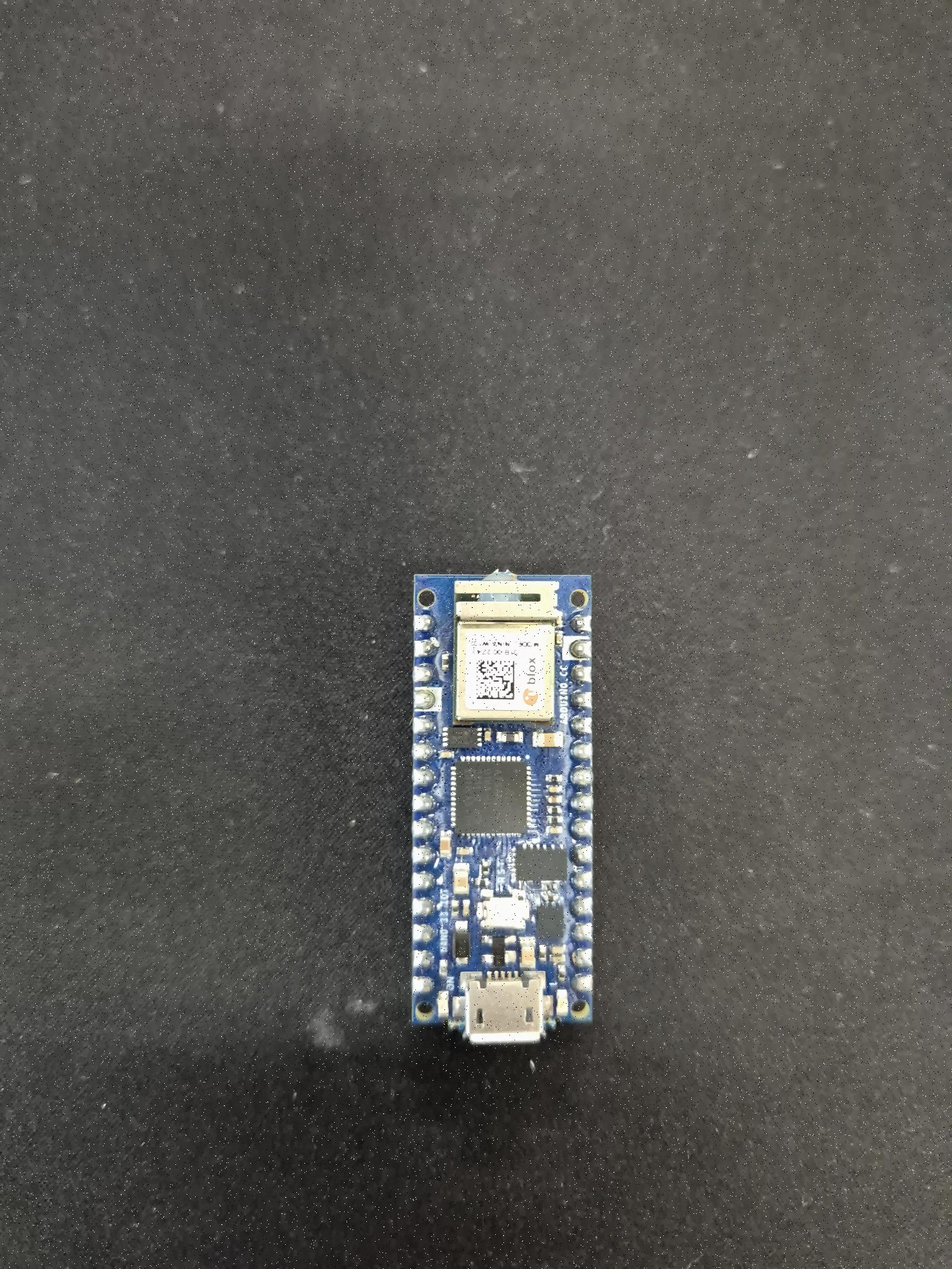arduino-nano-iot-33: (413, 573, 601, 1039)
